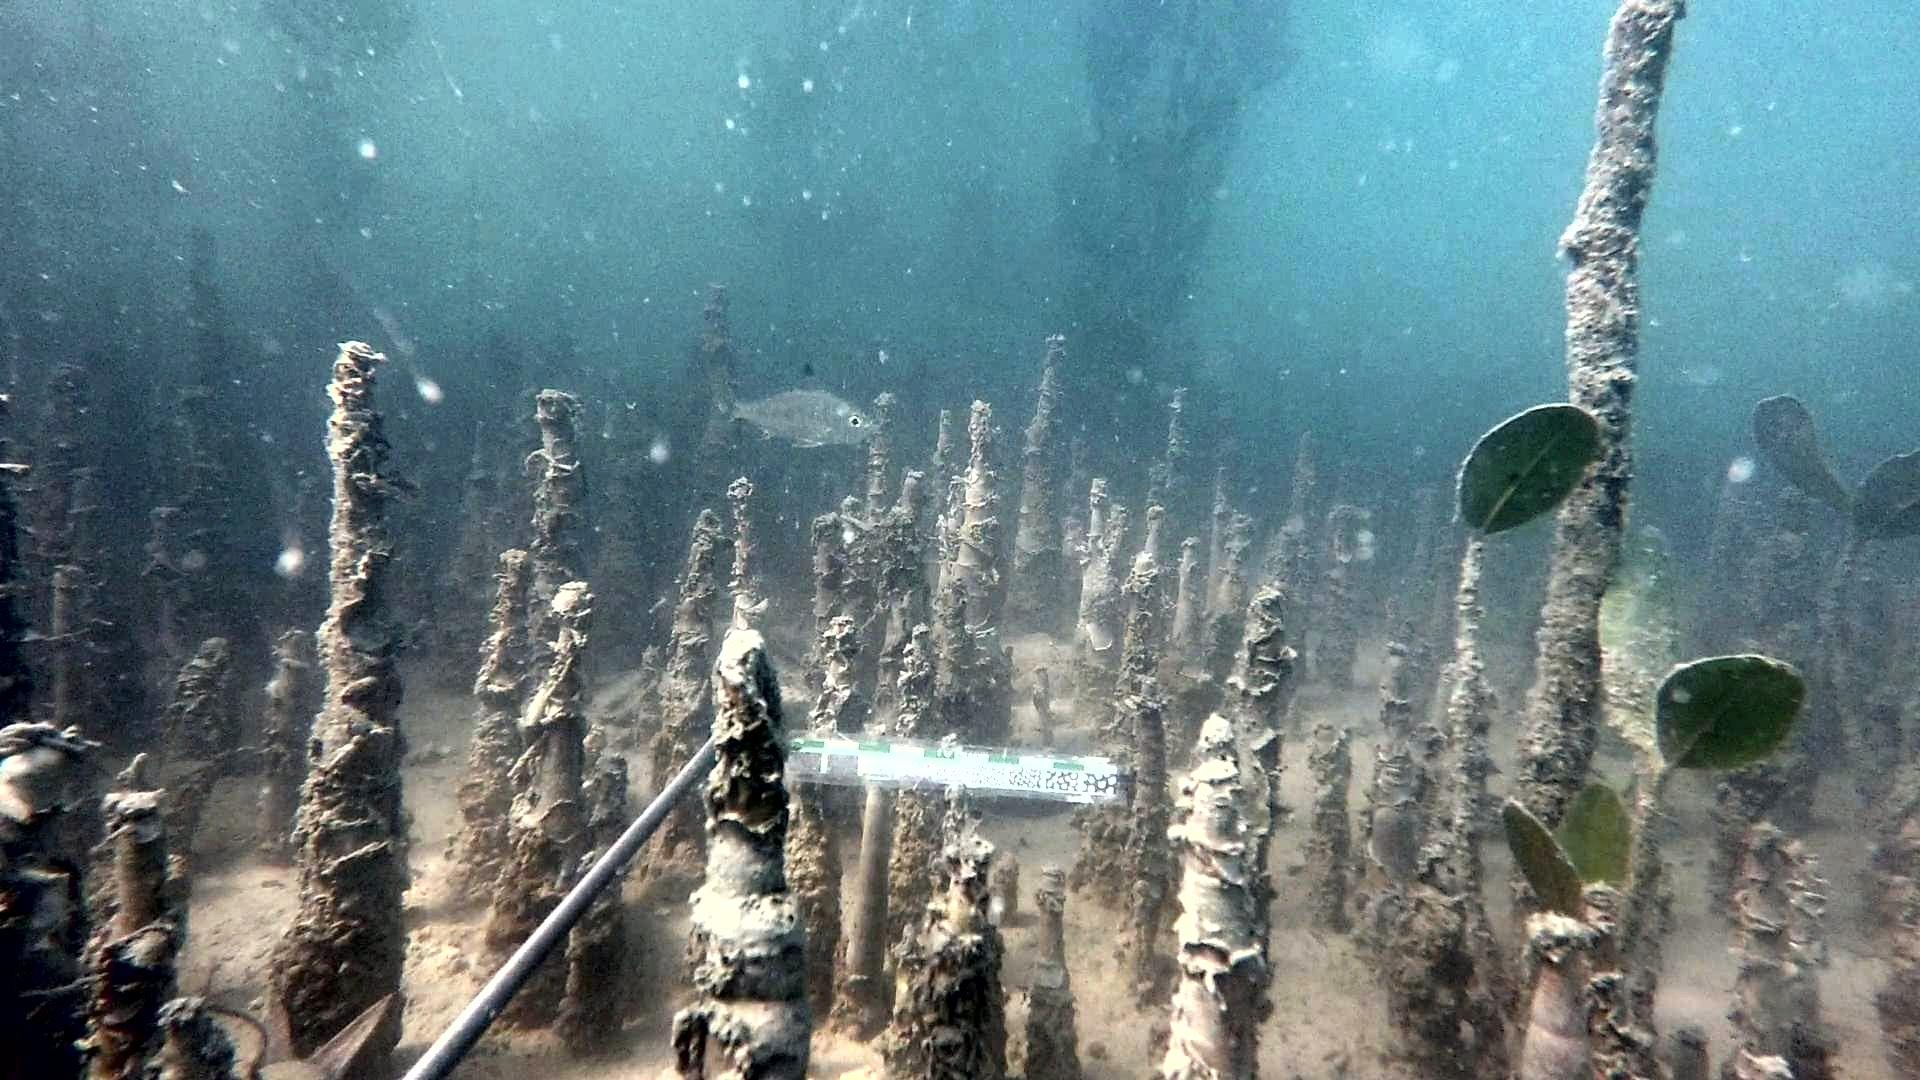gerres: (698, 362, 879, 451)
